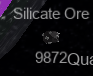Silicate: (12, 6, 90, 65)
